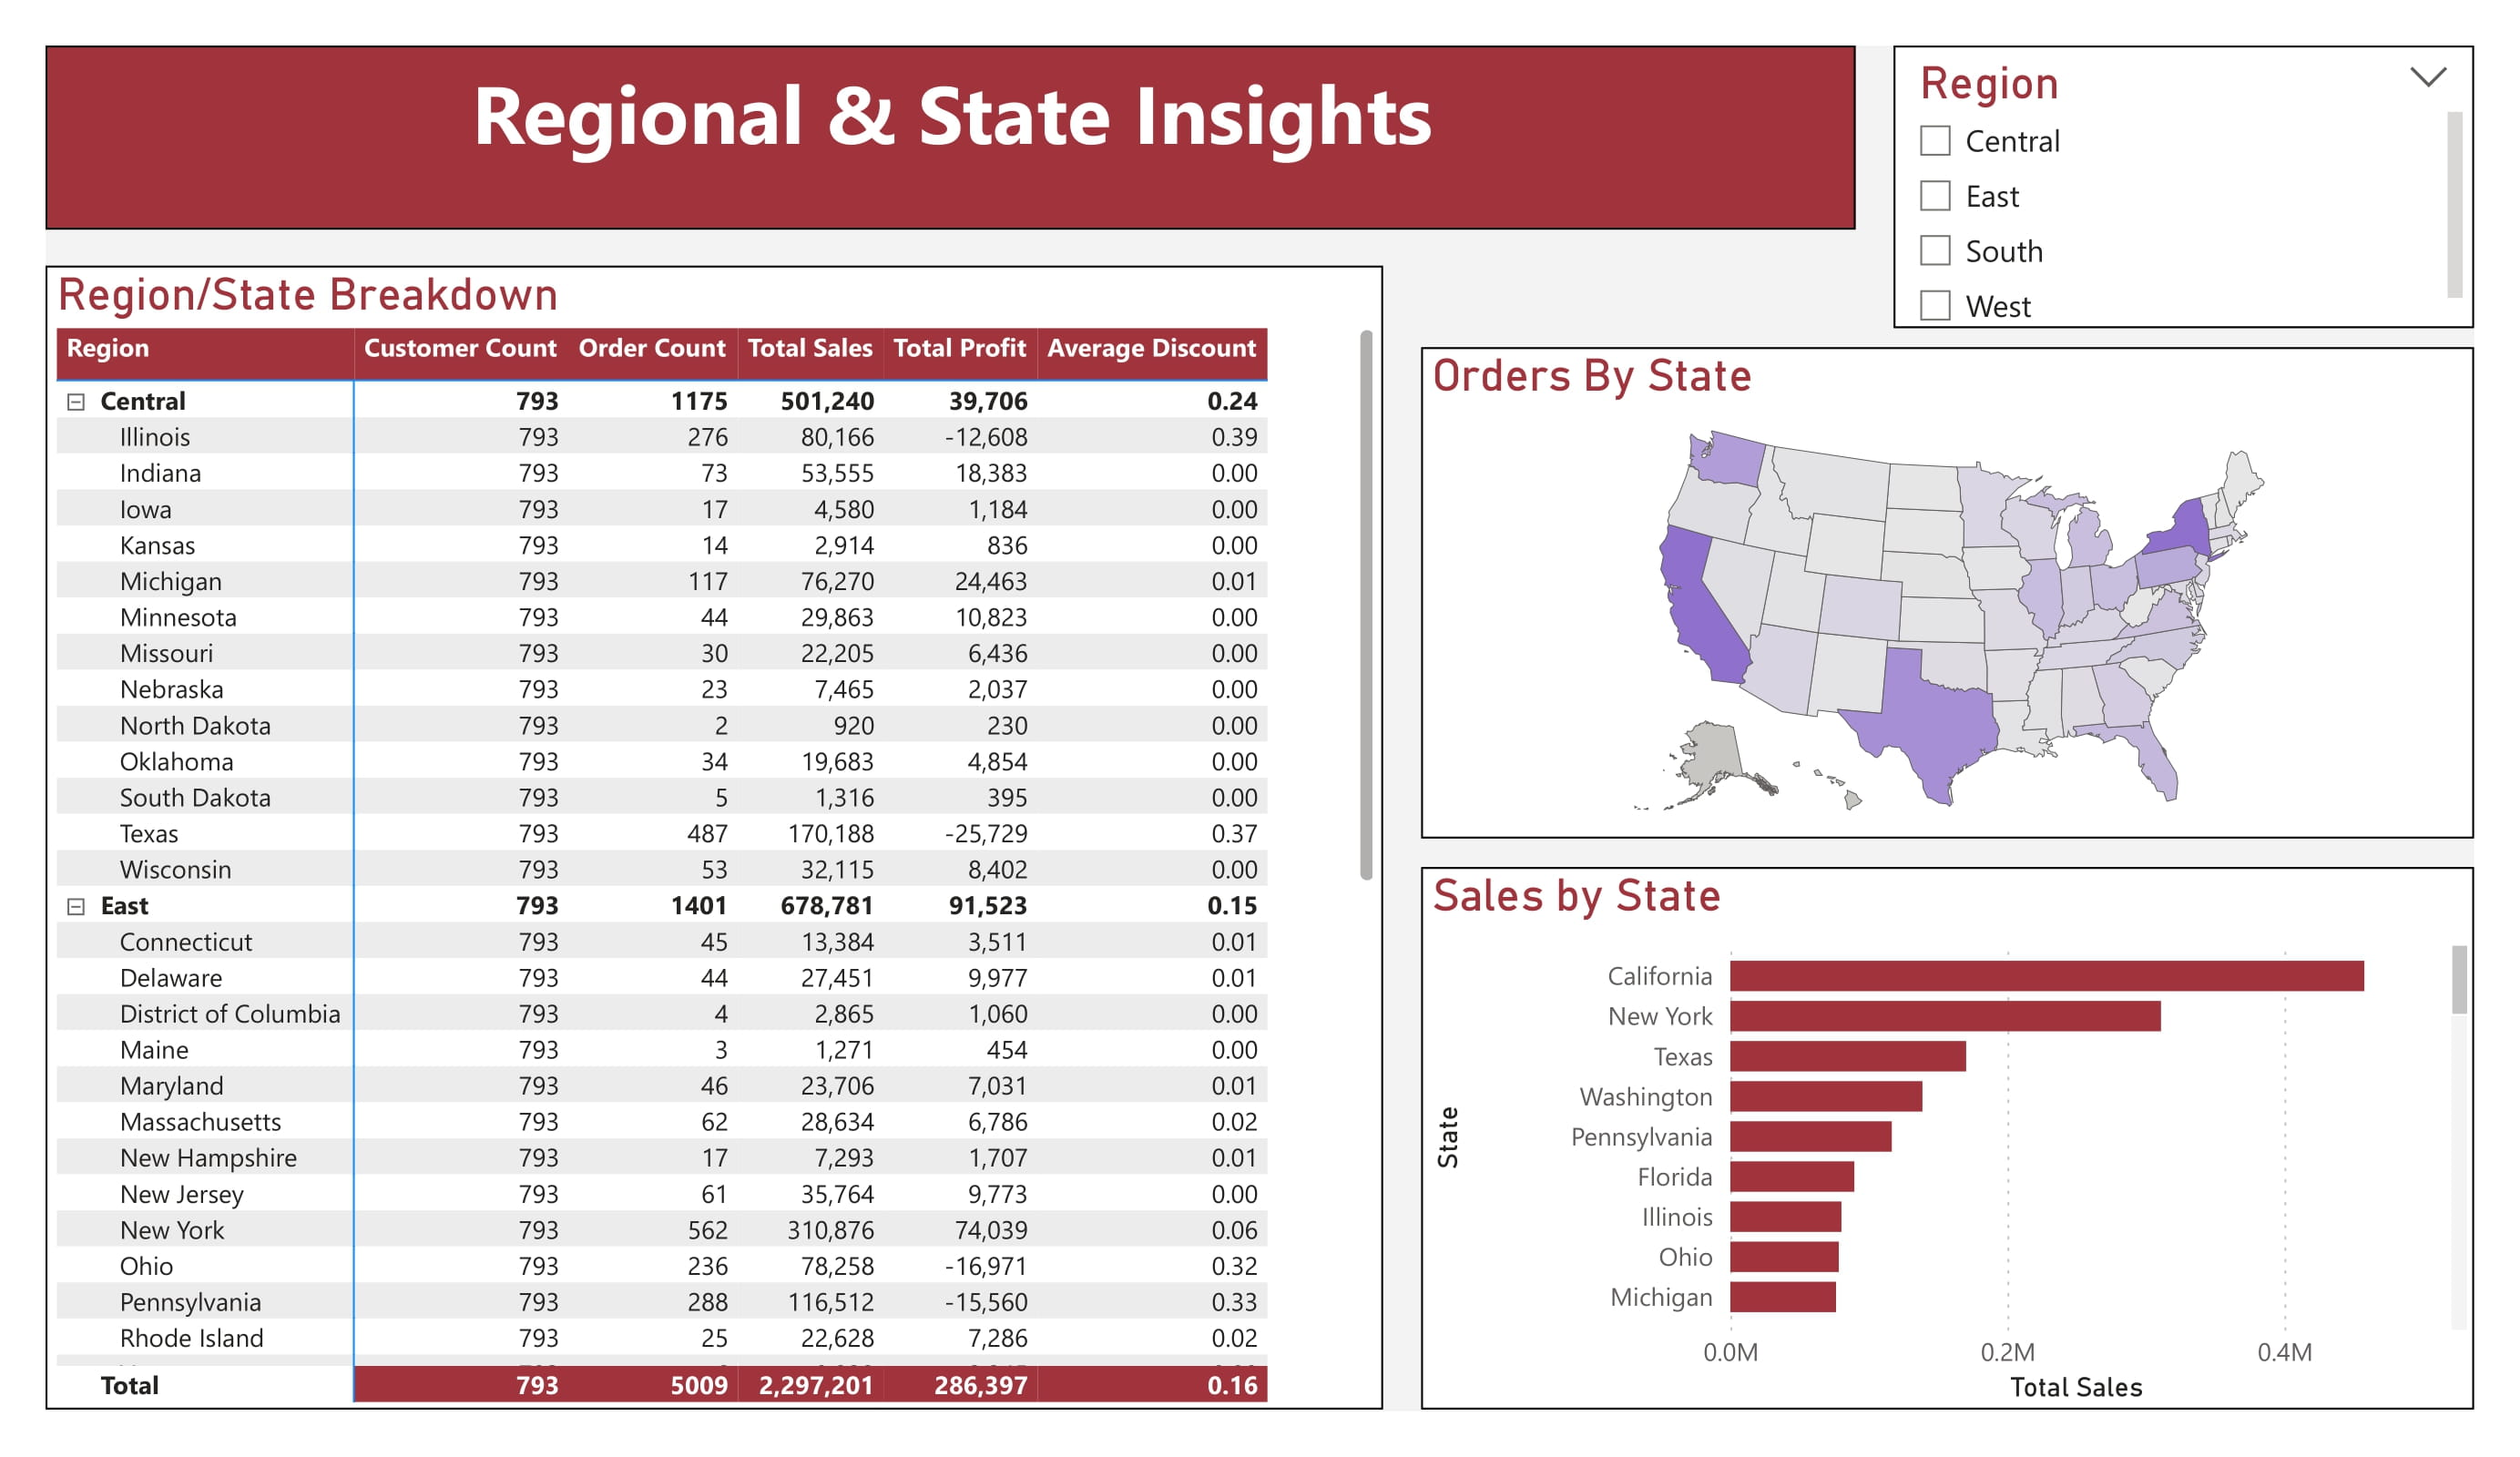

The page's visual inventory and layout, read from the dashboard file:
{"tool":"powerbi","page":{"name":"Regional & State Insights","canvas":[1280,720],"ordinal":2},"visuals":[{"type":"shapeMap","title":"Orders By State","fields":{"Category":["States.State"],"Value":["Orders.Total Sales"]},"box":[725.1,158.7,554.9,258.9],"z":0},{"type":"barChart","title":"Sales by State","fields":{"Category":["States.State"],"Y":["Orders.Total Sales"]},"box":[725.1,433.3,554.9,286],"z":1},{"type":"pivotTable","title":"Region/State Breakdown","fields":{"Rows":["States.Region","States.State"],"Values":["Customers.Customer Count","Orders.Order Count","Orders.Total Sales","Orders.Total Profit","Orders.Average Discount"]},"box":[0,115.8,705.1,603.5],"z":2},{"type":"slicer","fields":{"Values":["States.Region"]},"box":[973.9,0,306.1,148.7],"z":3},{"type":"textbox","box":[0,0,953.9,97.3],"z":4}]}

Visuals, with their boxes in screenshot pixels (x1, y1, x2, y2):
"Orders By State" shapeMap: 1422, 347, 2474, 838
"Sales by State" barChart: 1422, 868, 2474, 1411
"Region/State Breakdown" pivotTable: 46, 265, 1383, 1411
slicer - States.Region: 1893, 46, 2474, 328
textbox: 46, 46, 1856, 230
